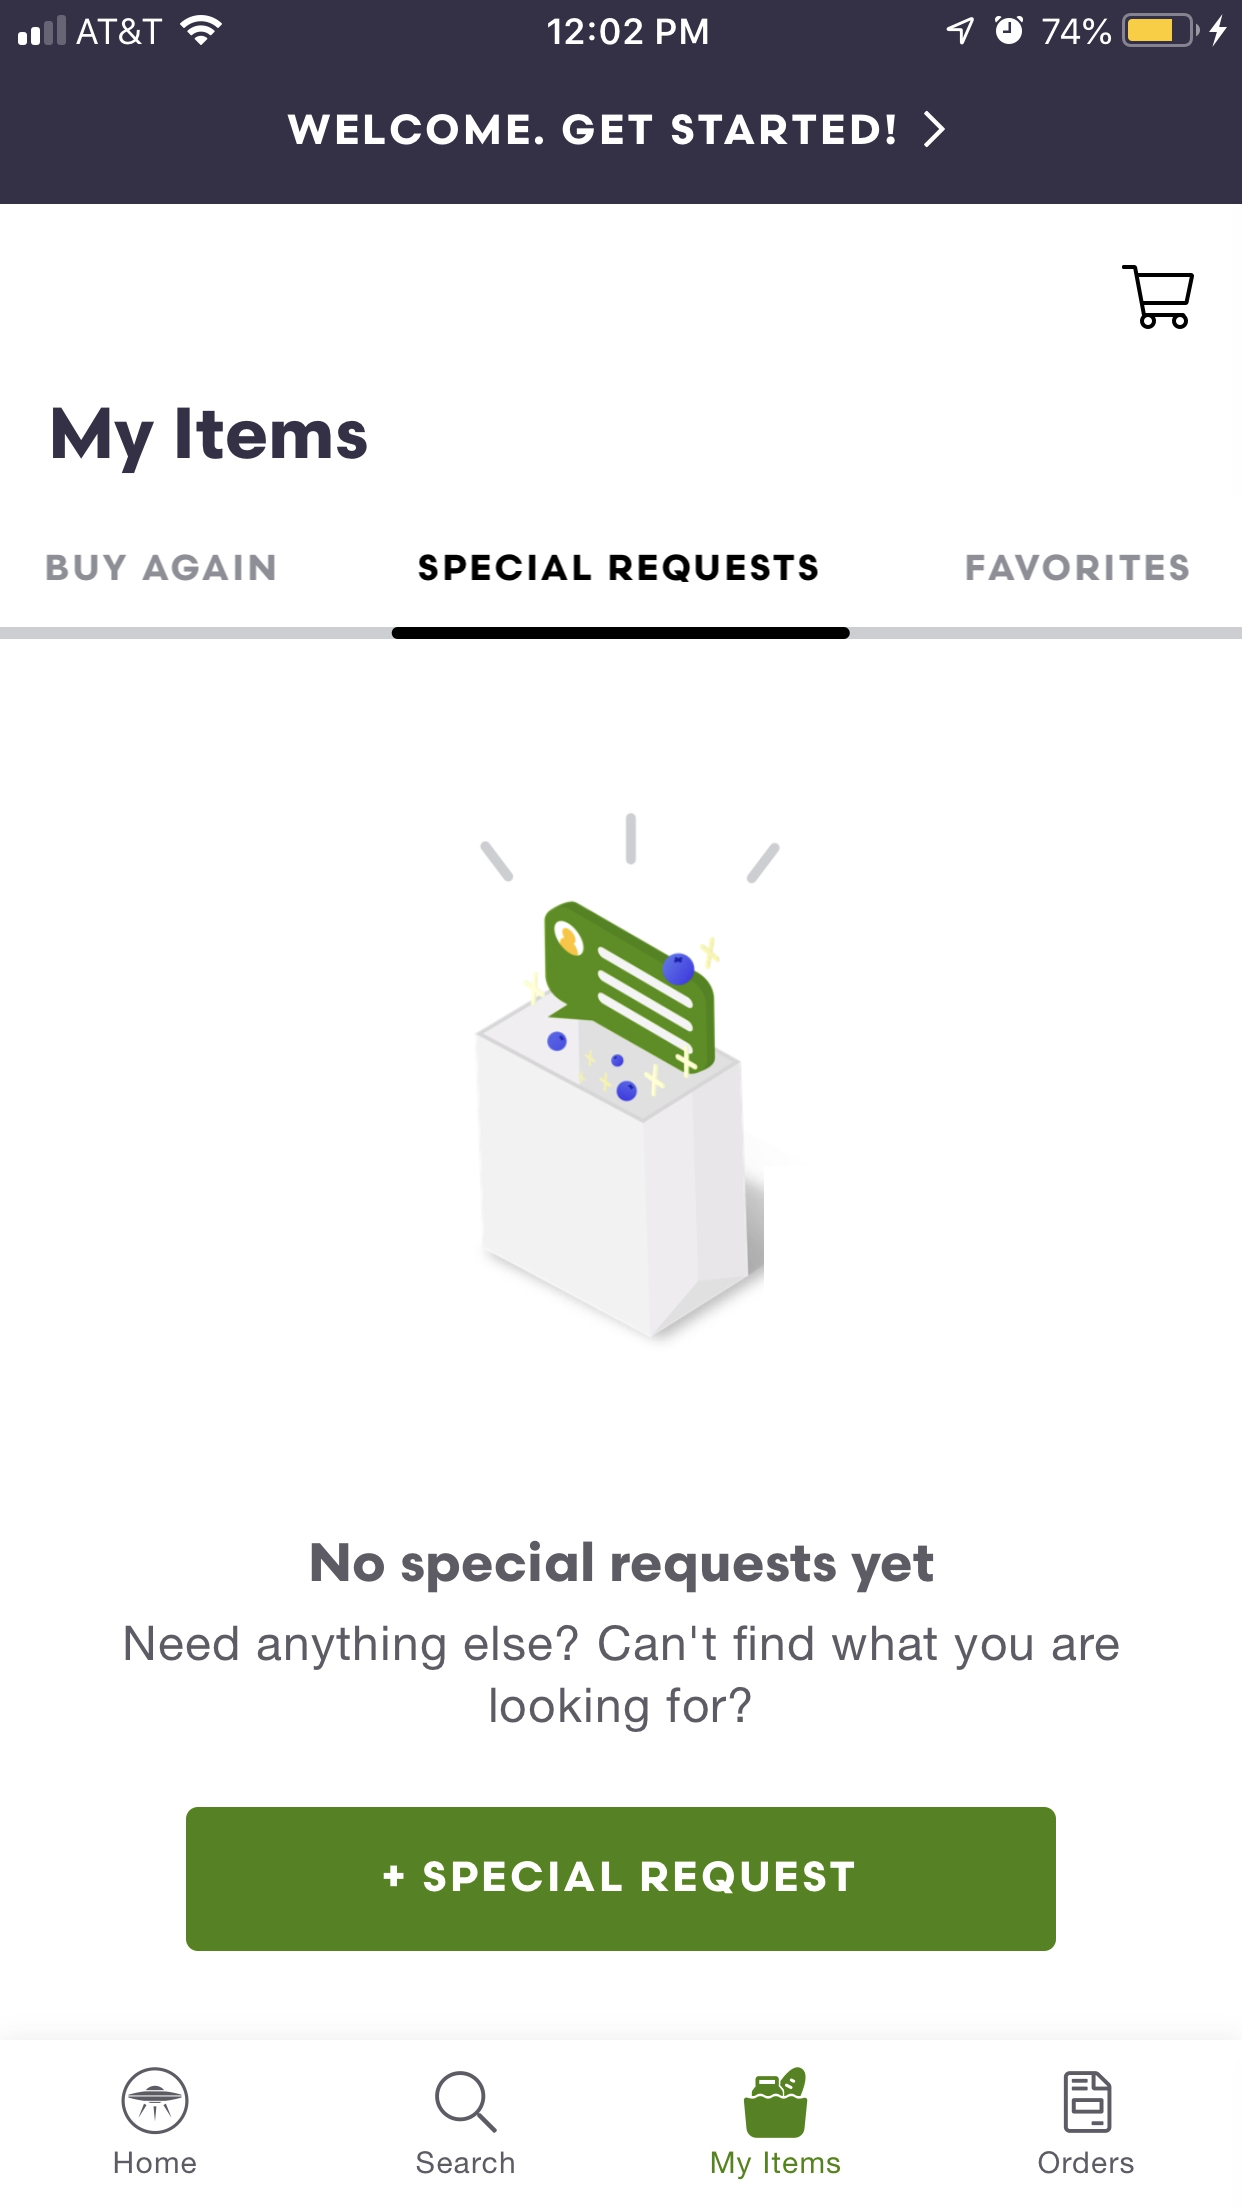Icon: (1121, 265, 1195, 331), (435, 2070, 497, 2134), (1063, 2070, 1113, 2134), (924, 111, 946, 149)
Image: (475, 813, 783, 1341), (121, 2067, 190, 2135), (745, 2067, 808, 2138)
Text: (124, 1626, 1119, 1733), (311, 1541, 934, 1594), (53, 408, 369, 475), (287, 114, 896, 147), (419, 554, 819, 582), (45, 554, 276, 582), (966, 554, 1190, 582), (711, 2150, 842, 2181), (416, 2150, 516, 2175), (1037, 2150, 1134, 2175), (115, 2150, 199, 2175)
TextButton: (187, 1806, 1057, 1952)
UpperTaskBar: (2, 2, 1242, 49)
